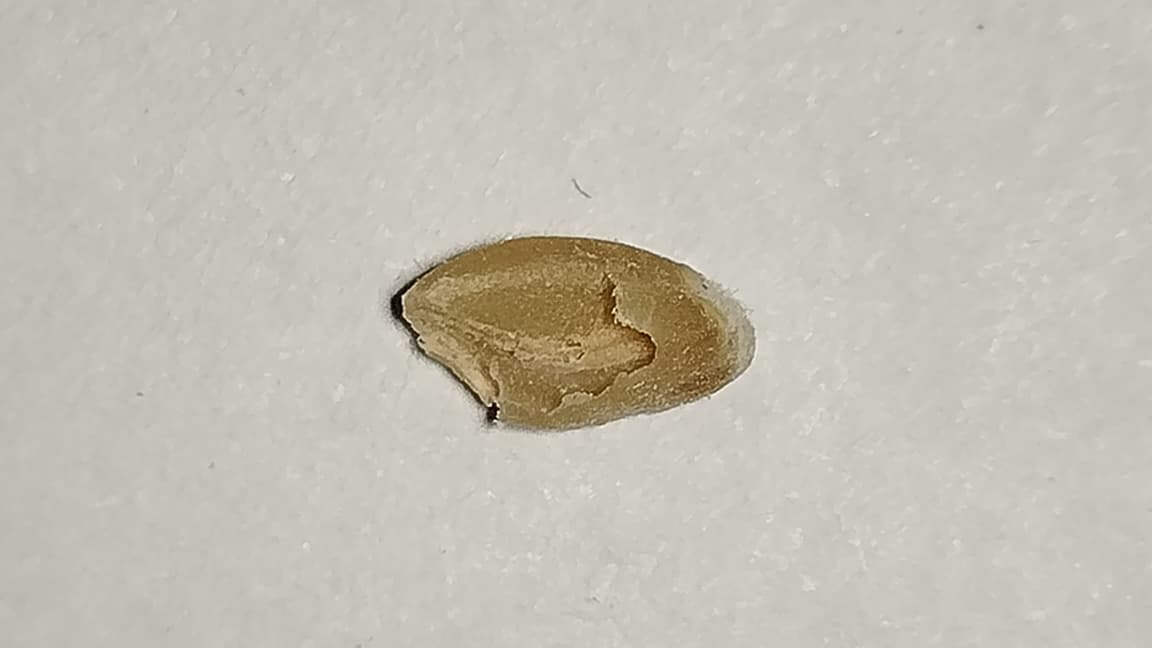damage: (402, 237, 754, 426)
insectdamage: (393, 246, 655, 409)
